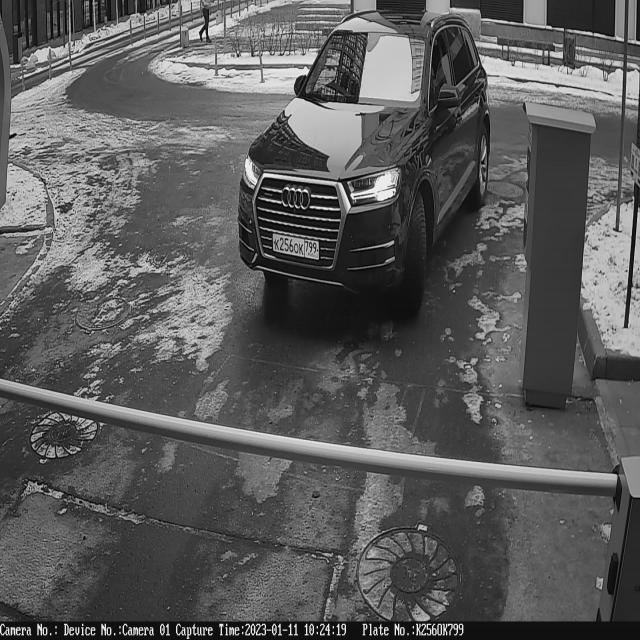car-plate-numbers: (271, 229, 324, 265)
